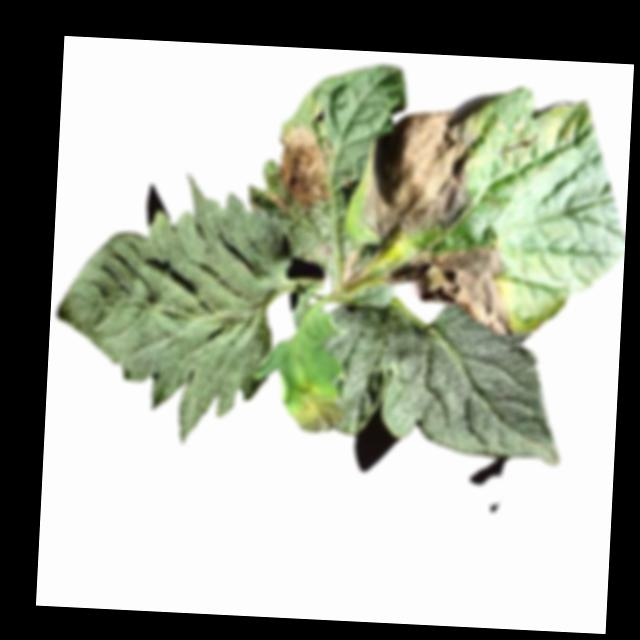Late_blight: (354, 106, 479, 244), (378, 239, 505, 337), (274, 119, 334, 211), (290, 386, 348, 436), (339, 249, 361, 288)
healthy: (48, 182, 294, 448), (334, 297, 567, 467)
